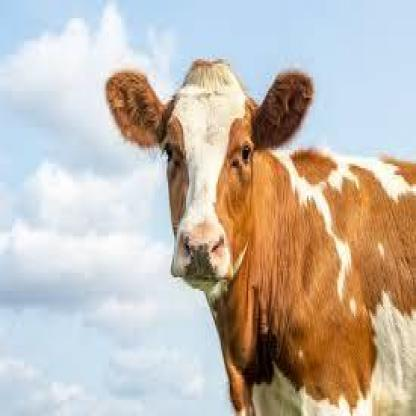cow: (104, 57, 416, 416)
